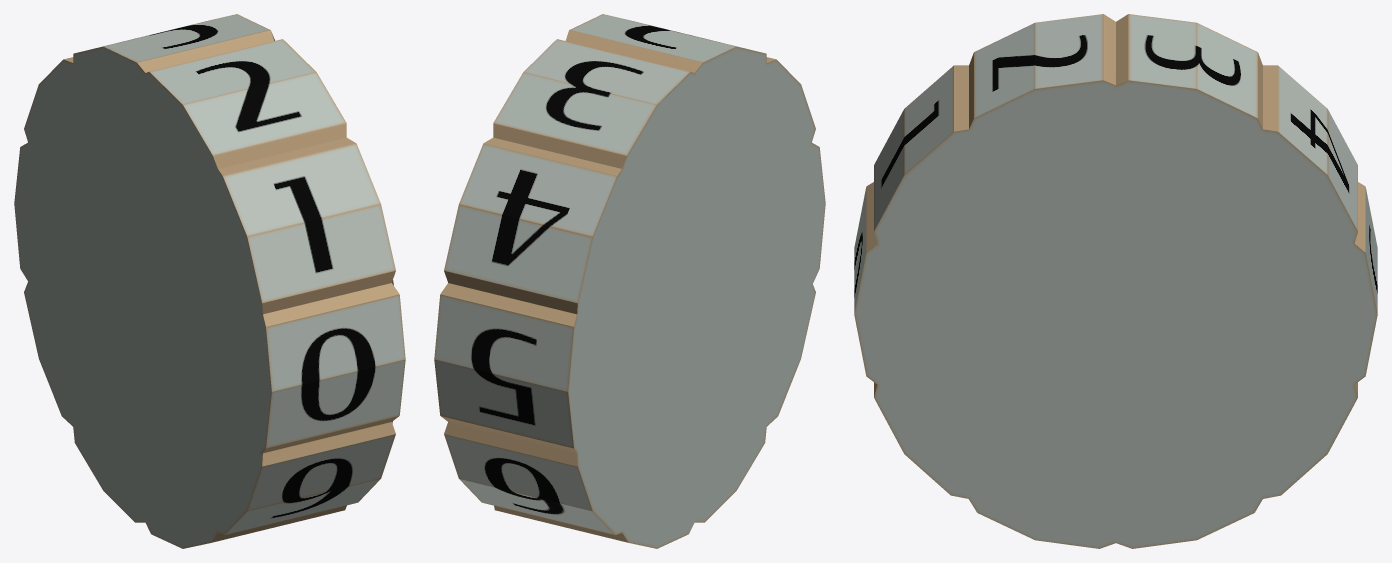
File: RotalyMater_Roter.fbx
3 views of the same model, side by side, from view 1: azimuth 30°, elevation 25°; view 2: azimuth 150°, elevation 25°; view 3: azimuth 270°, elevation 25° (orthographic).
Visible parts, largest first — view 1: Roter.000; view 2: Roter.000; view 3: Roter.000.
Part boxes in pixels (x1=…): Roter.000: x1=14, y1=14, x2=405, y2=548; Roter.000: x1=434, y1=14, x2=825, y2=548; Roter.000: x1=854, y1=14, x2=1377, y2=548.
Bounding box in the file's own units: 3 × 9.88 × 10.
